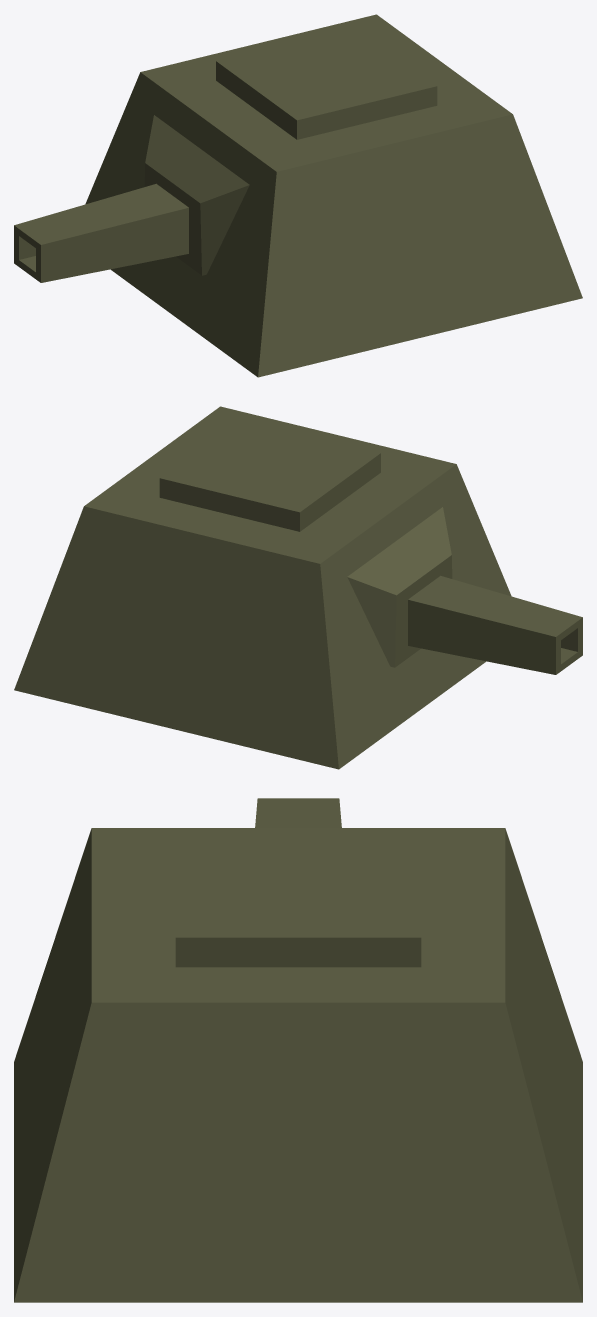
The model's file is tank_turret.glb.
3 views of the same model, one above another, from view 1: azimuth 30°, elevation 25°; view 2: azimuth 150°, elevation 25°; view 3: azimuth 270°, elevation 25° (orthographic). The views are drawn at different scales.
Parts seen in each view (by area): view 1: Cube.003; view 2: Cube.003; view 3: Cube.003.
Part boxes in pixels (x1,y1,x2,y2): Cube.003: [14, 14, 582, 377]; Cube.003: [14, 406, 582, 769]; Cube.003: [14, 798, 582, 1302].
Size of the model in its own units: 1.97 by 0.7967 by 1.39.
